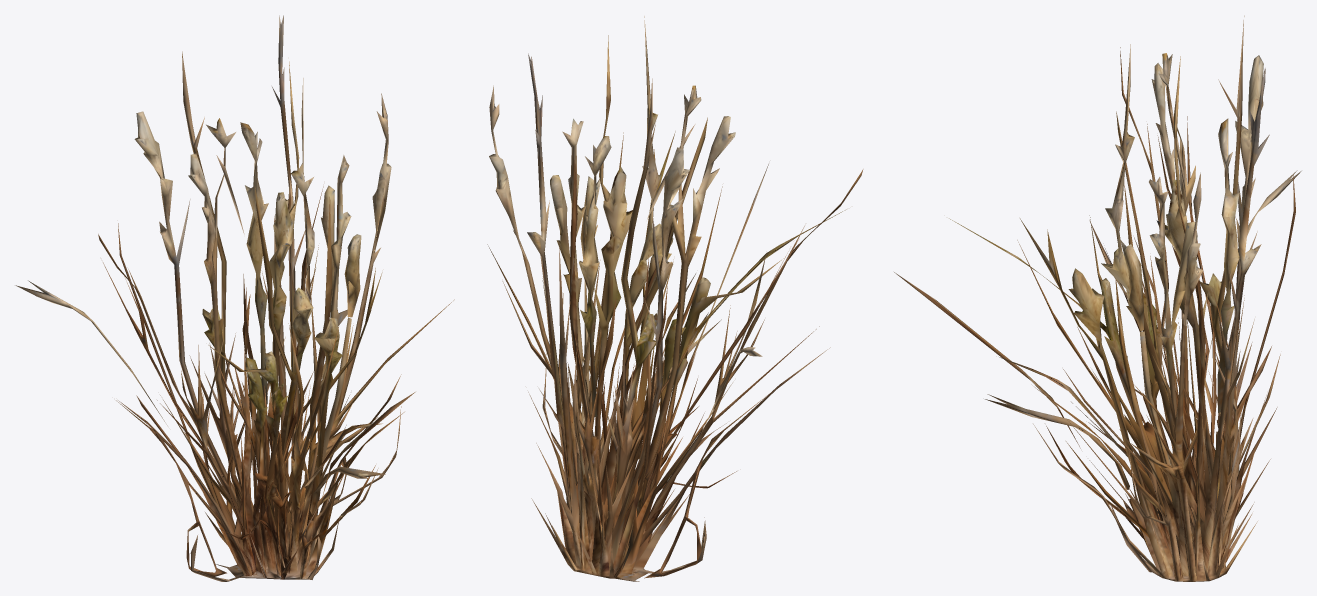
Rendered from hay.fbx.
The picture shows the model from 3 angles, left to right: view 1: azimuth 30°, elevation 25°; view 2: azimuth 150°, elevation 25°; view 3: azimuth 270°, elevation 25°; orthographic projection.
Visible parts, largest first — view 1: node_0; view 2: node_0; view 3: node_0.
Part boxes in pixels (bbox=[...]): node_0: bbox=[15, 15, 454, 581]; node_0: bbox=[487, 16, 863, 581]; node_0: bbox=[894, 15, 1301, 581].
Bounding box in the file's own units: 74.55 × 101 × 72.41.
1 material, 1 textured.
